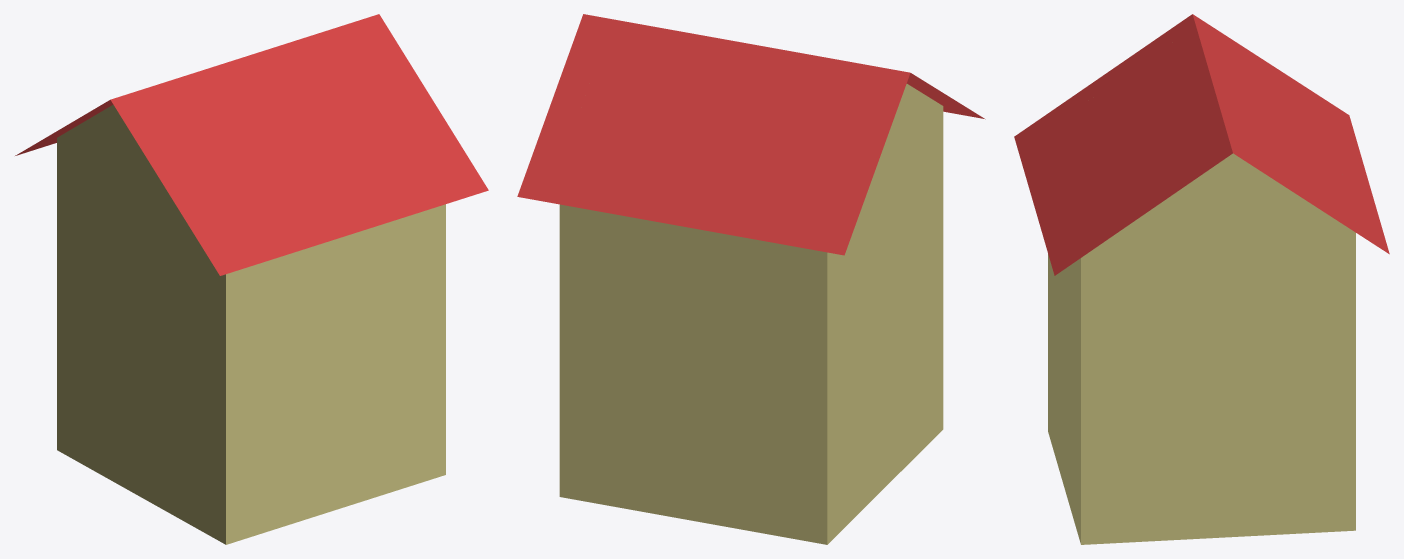
The picture shows the model from 3 angles, left to right: view 1: azimuth 30°, elevation 25°; view 2: azimuth 150°, elevation 25°; view 3: azimuth 270°, elevation 25°; orthographic projection. The views are drawn at different scales.
Bounding box in the file's own units: 9.18 × 9.3 × 10.83.
